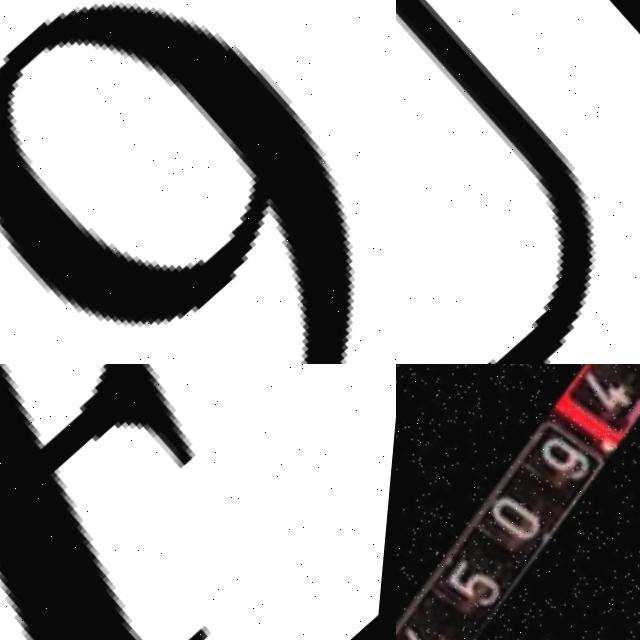0: (479, 472, 559, 552)
4: (566, 364, 640, 425), (396, 602, 472, 640)
5: (442, 539, 521, 618)
9: (0, 0, 396, 364), (525, 409, 608, 492)
F: (0, 364, 396, 640)
U: (396, 0, 640, 364)
